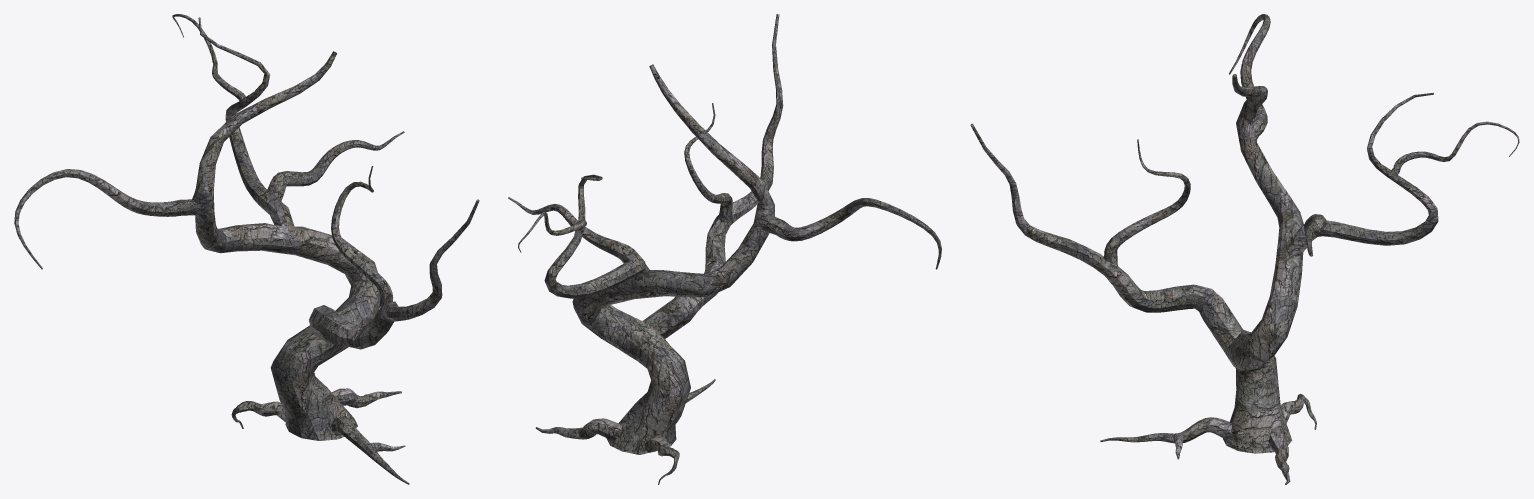
The model's file is tree_uv.fbx.
3 views of the same model, side by side, from view 1: azimuth 30°, elevation 25°; view 2: azimuth 150°, elevation 25°; view 3: azimuth 270°, elevation 25° (orthographic). The views are drawn at different scales.
Visible parts, largest first — view 1: pasted__pCylinder1; view 2: pasted__pCylinder1; view 3: pasted__pCylinder1.
Part boxes in pixels (x1,y1,x2,y2): pasted__pCylinder1: (14,14,479,484); pasted__pCylinder1: (508,14,941,484); pasted__pCylinder1: (970,14,1519,484).
Size of the model in its own units: 23.57 by 21.23 by 27.91.
